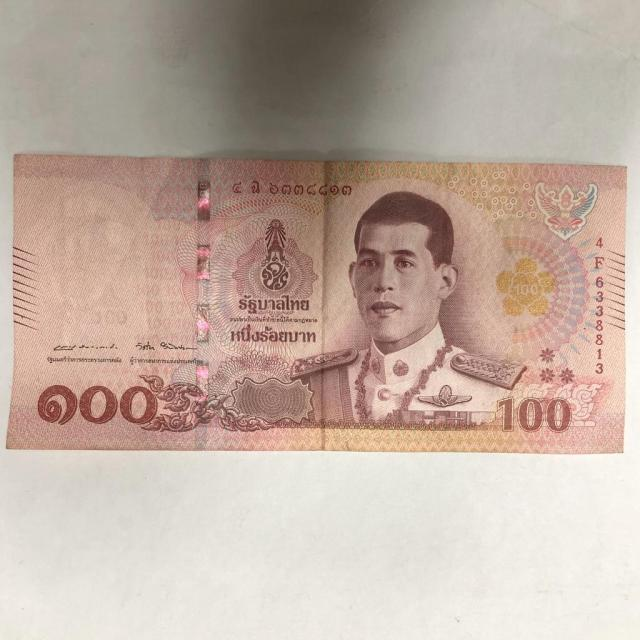THAI100: (7, 154, 627, 454)
